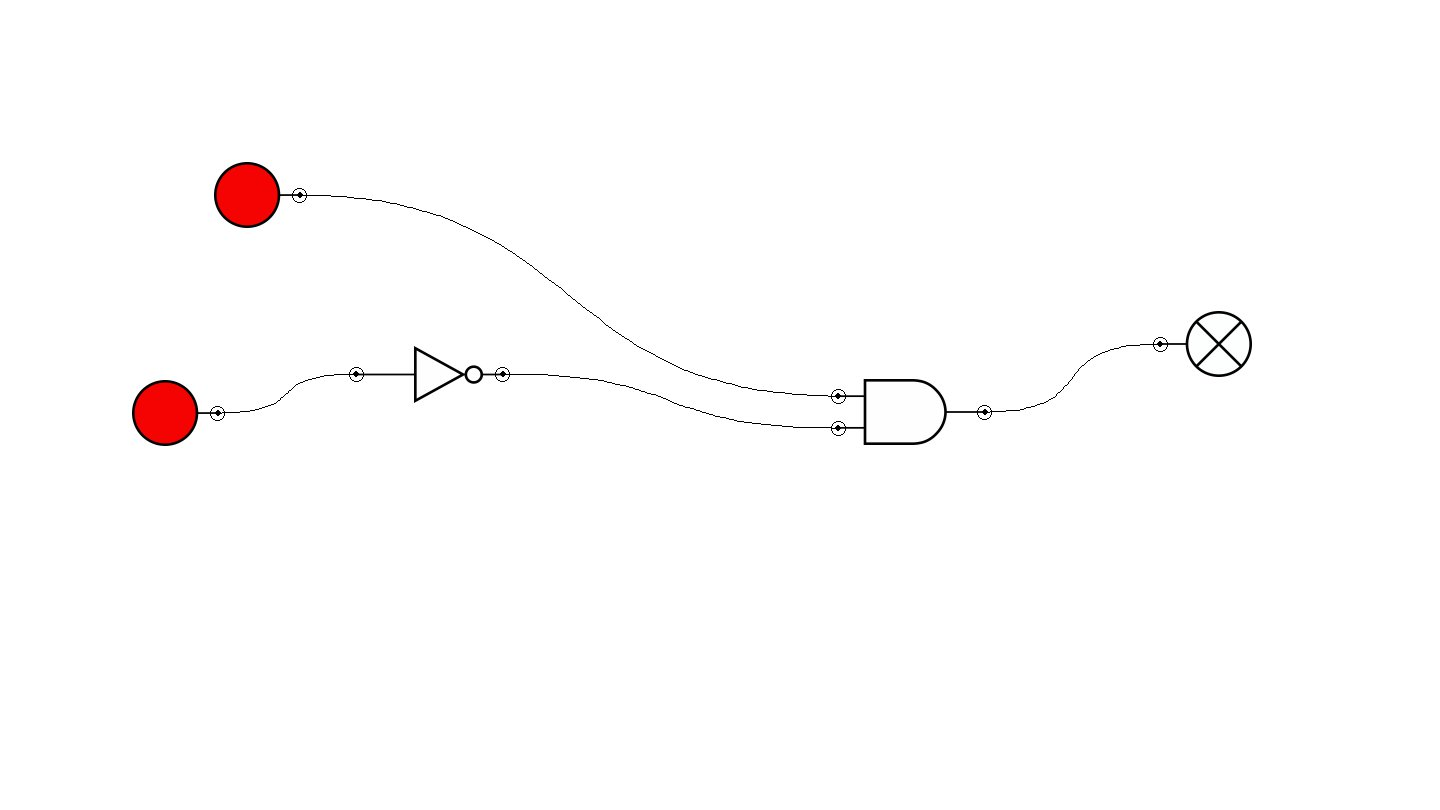and: (831, 379, 992, 445)
bulb: (1153, 311, 1252, 377)
not: (349, 346, 510, 403)
switch_False: (132, 380, 225, 446), (214, 162, 307, 228)
